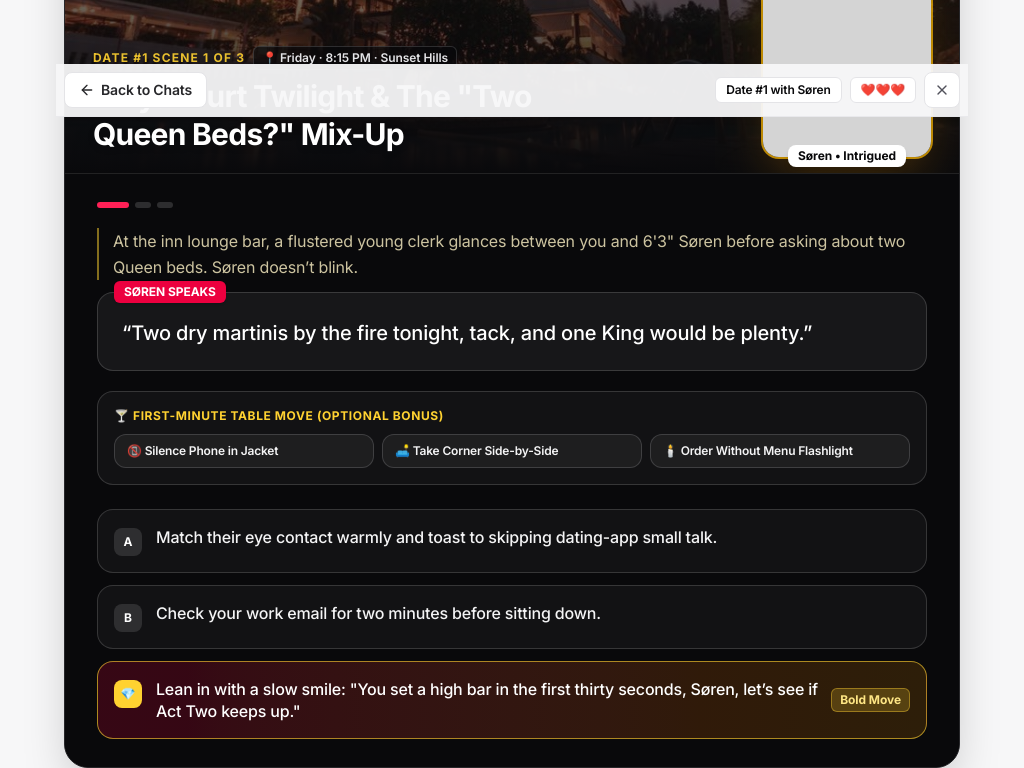
v35 Multi-Match Evolving Chats, Cut-Loose Discernment, Romantic Date Stage & Cub School › plays RomanticDateStage with live expression transitions, Night-1 Pacing Test, S/A/B Date Rank (free replay, zero Smooth Rewind), Secret Group-Chat Leak, and Di
This screenshot has width=1024, height=768.
Later steps or results of the test are not shown.
(page scrolled)
Click the button "Match their eye contact warmly" at (512, 540), box [97,508,927,572]
(page scrolled)
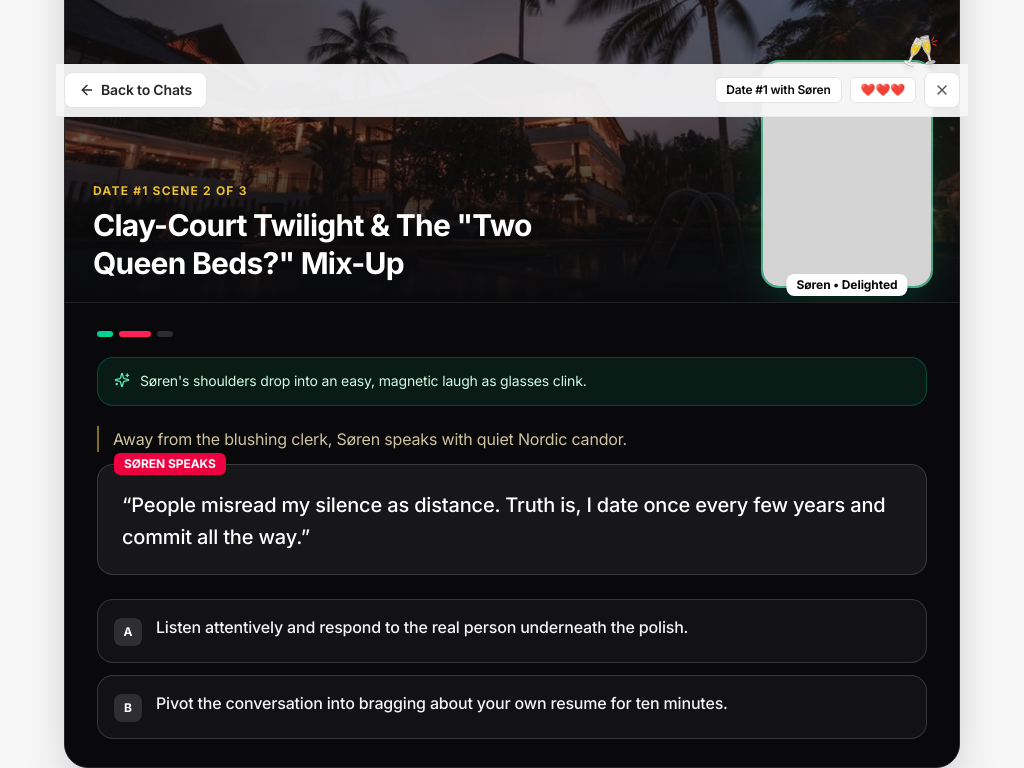
Click the button "Listen attentively and respond" at (512, 631), box [97,599,927,663]
(page scrolled)
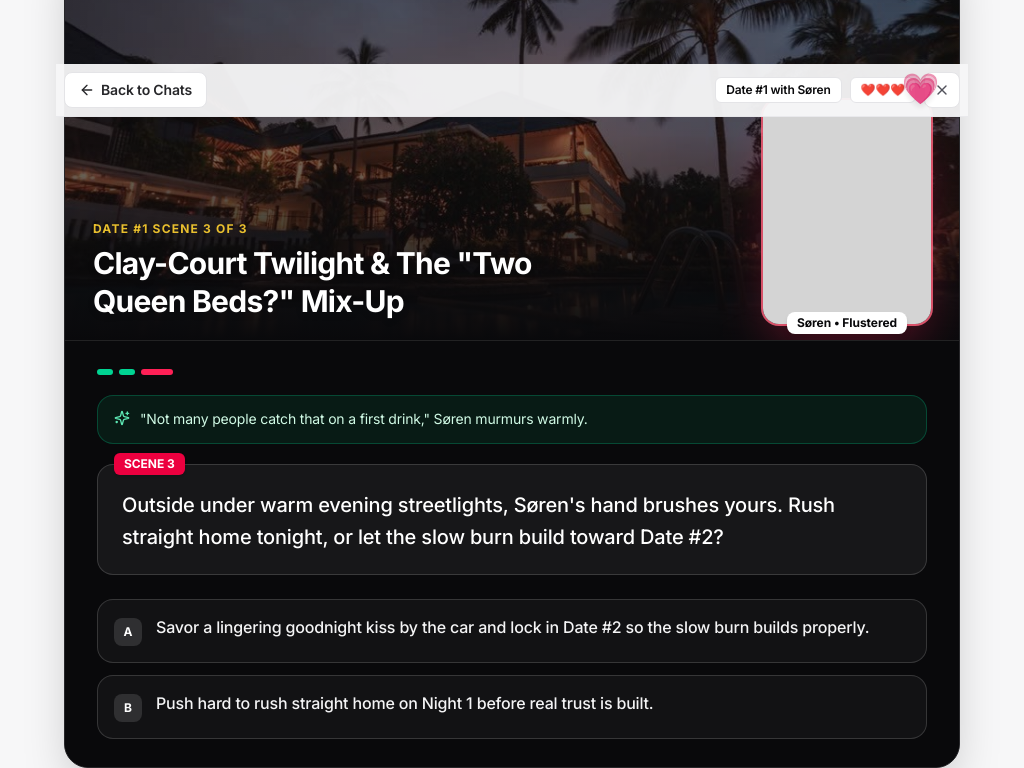
Click the button "Savor a lingering goodnight kiss" at (512, 631), box [97,599,927,663]
(page scrolled)
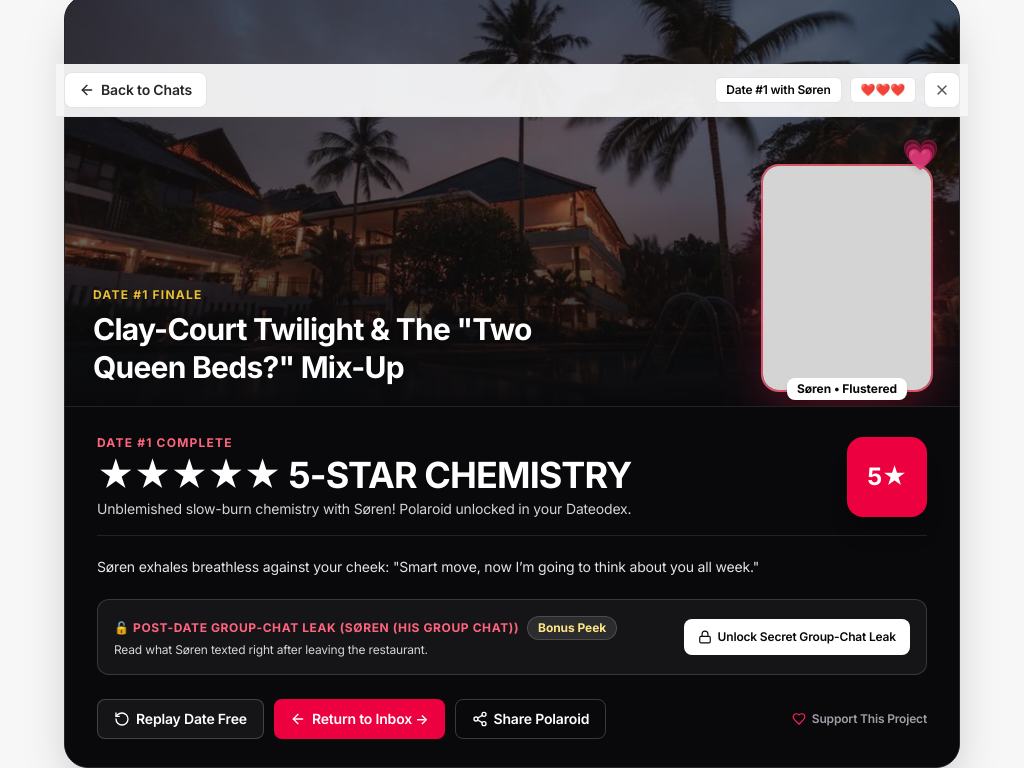
expect the heading "★★★★★ 5-STAR CHEMISTRY" is shown: met, box [97,455,632,495]
expect the button "Replay Date Free" is shown: met, box [97,699,264,739]
Click the button "Unlock Secret Group-Chat Leak" at (797, 637), box [684,619,910,655]
(page scrolled)
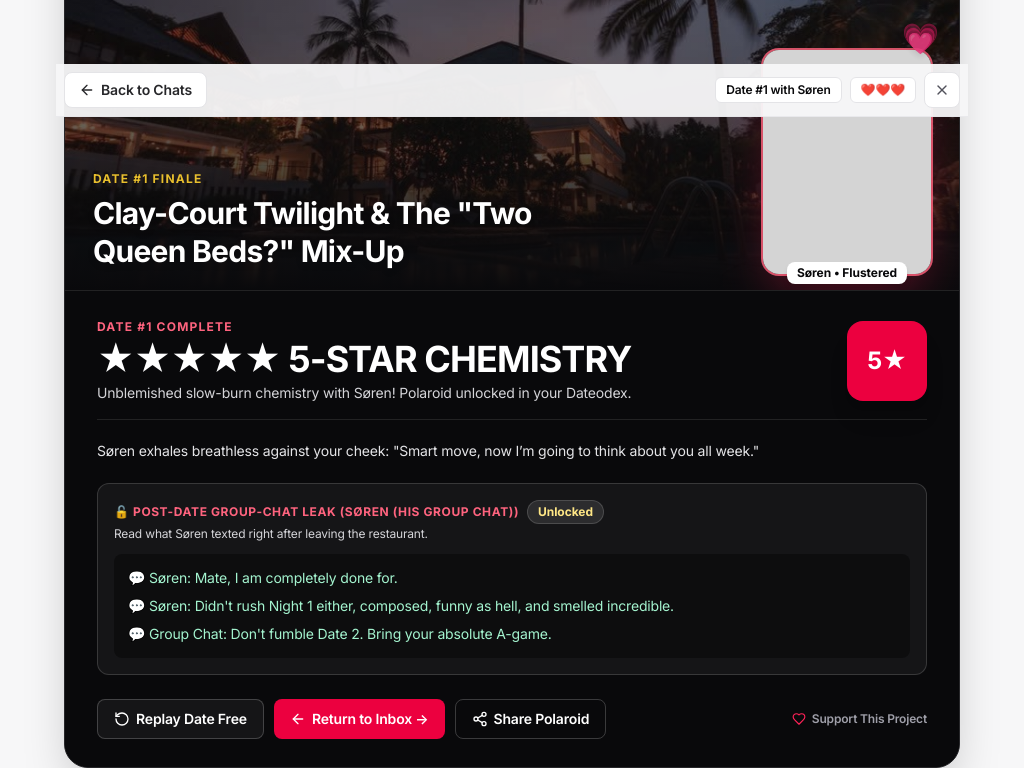
expect the text "💬 Søren: Mate, I am completely done for." is shown: met, box [128,569,398,586]
